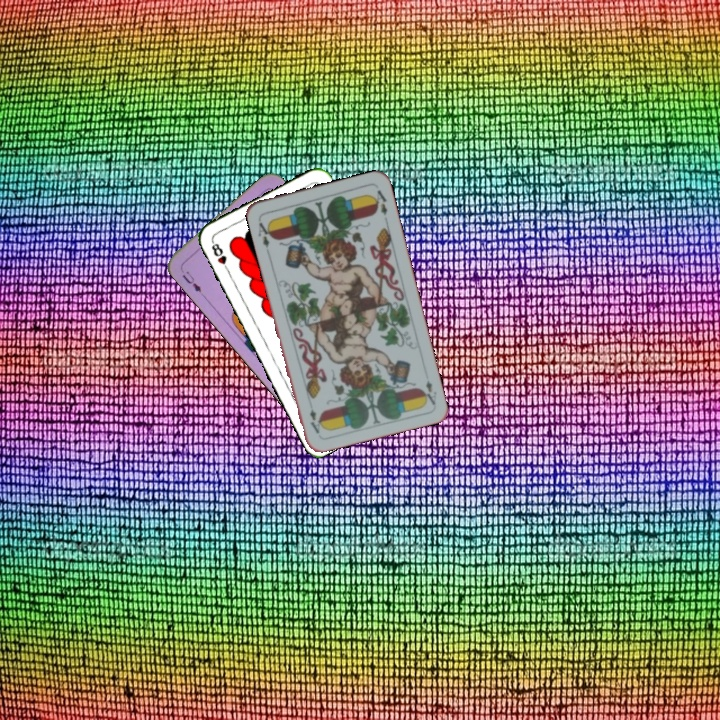EA: (254, 215, 275, 255), (418, 376, 439, 408)
EU: (176, 264, 204, 295)
H8: (207, 237, 232, 275)
